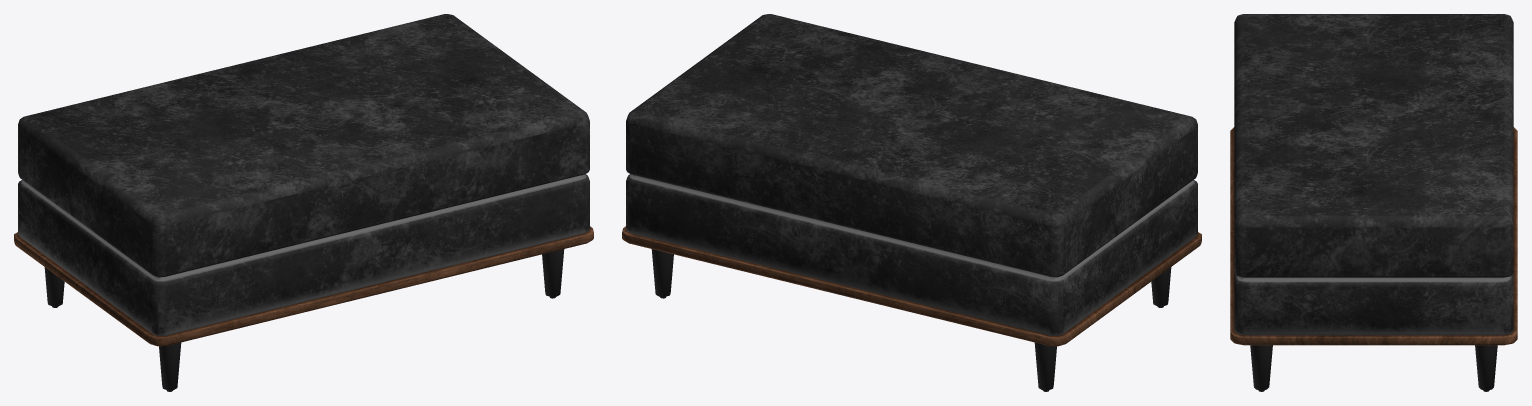
File: bench_new.fbx
The picture shows the model from 3 angles, left to right: view 1: azimuth 30°, elevation 25°; view 2: azimuth 150°, elevation 25°; view 3: azimuth 270°, elevation 25°; orthographic projection. The views are drawn at different scales.
Visible parts, largest first — view 1: Cube; view 2: Cube; view 3: Cube.
Boxes of the visible parts, <box> form: Cube: <box>14,14,593,391</box>; Cube: <box>622,14,1201,391</box>; Cube: <box>1230,14,1517,391</box>.
Size of the model in its own units: 125 by 50.38 by 71.3.
Materials: 1 (1 with a texture image).
